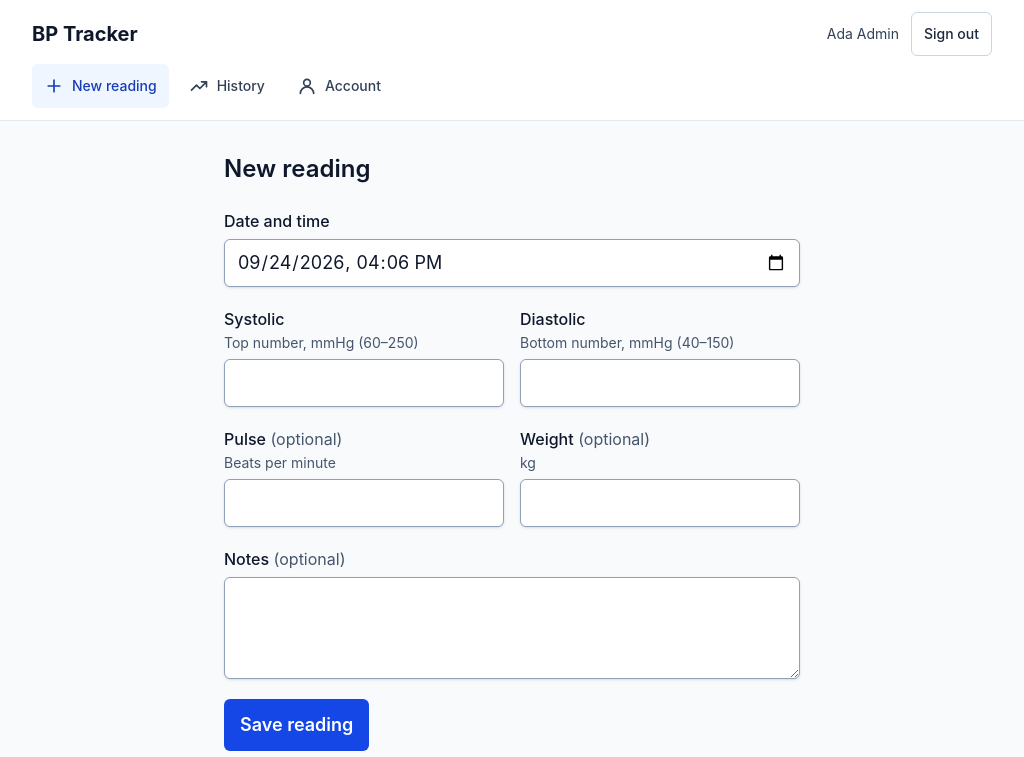
Test case: App › links New reading, History and Account in the main navigation
Click the link "History". click: (227, 86)
box: x1=189 y1=76 x2=265 y2=96
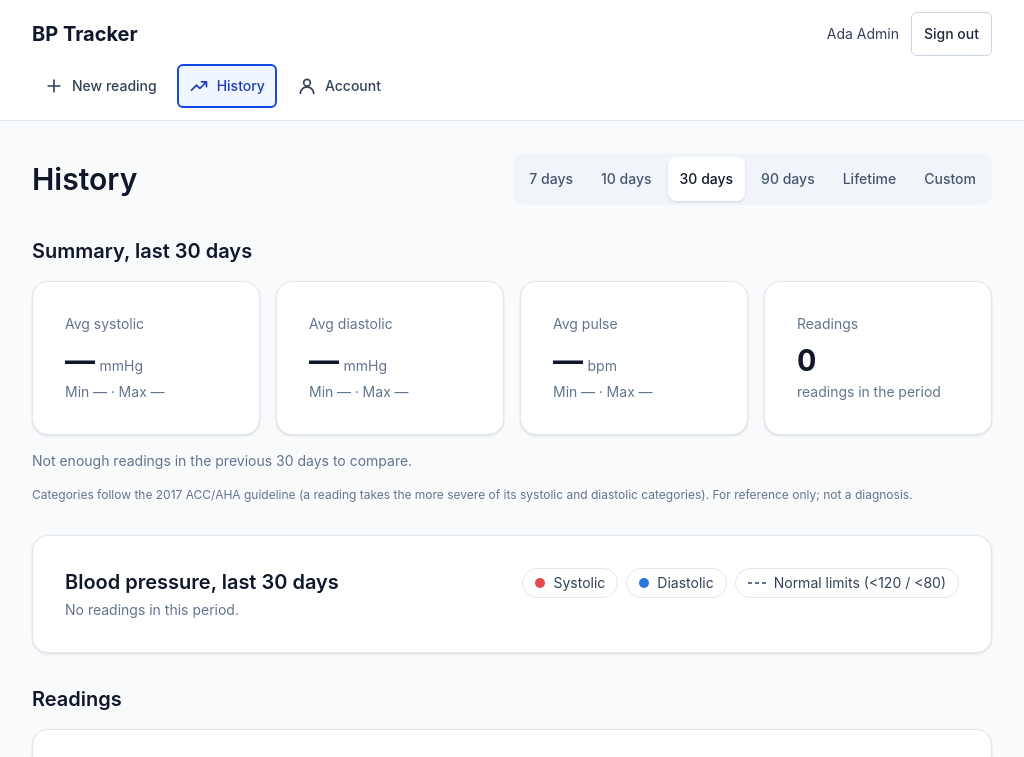
Check: the heading "History" is shown, box x1=32 y1=161 x2=137 y2=197
